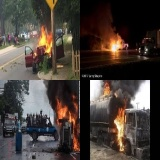fire: (53, 96, 79, 126), (33, 26, 54, 61), (114, 105, 129, 154), (68, 128, 80, 151), (108, 36, 125, 52), (102, 82, 112, 97), (114, 91, 120, 100)
